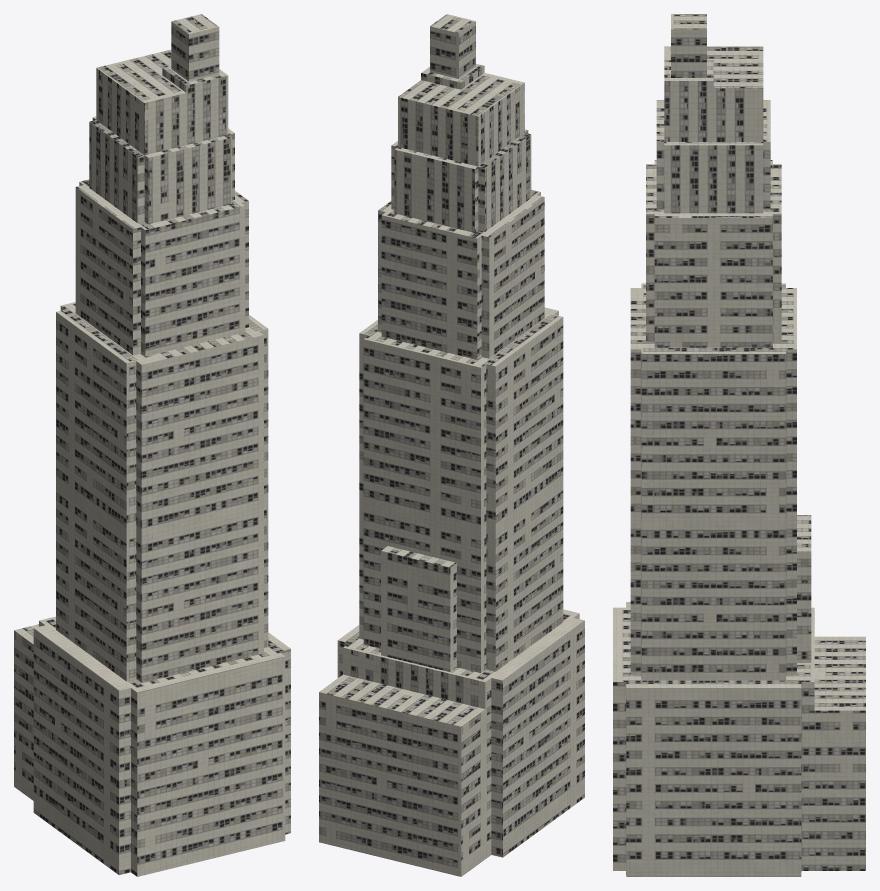
The model's file is la-tower-d.glb.
3 views of the same model, side by side, from view 1: azimuth 30°, elevation 25°; view 2: azimuth 150°, elevation 25°; view 3: azimuth 270°, elevation 25° (orthographic). The views are drawn at different scales.
Parts seen in each view (by area): view 1: tower-d; view 2: tower-d; view 3: tower-d.
Part boxes in pixels (left/top/right/bottom): tower-d: left=14, top=14, right=290, bottom=876; tower-d: left=319, top=14, right=584, bottom=876; tower-d: left=613, top=14, right=865, bottom=876.
Bounding box in the file's own units: 60.69 × 271 × 75.38.
1 material, 1 textured.
